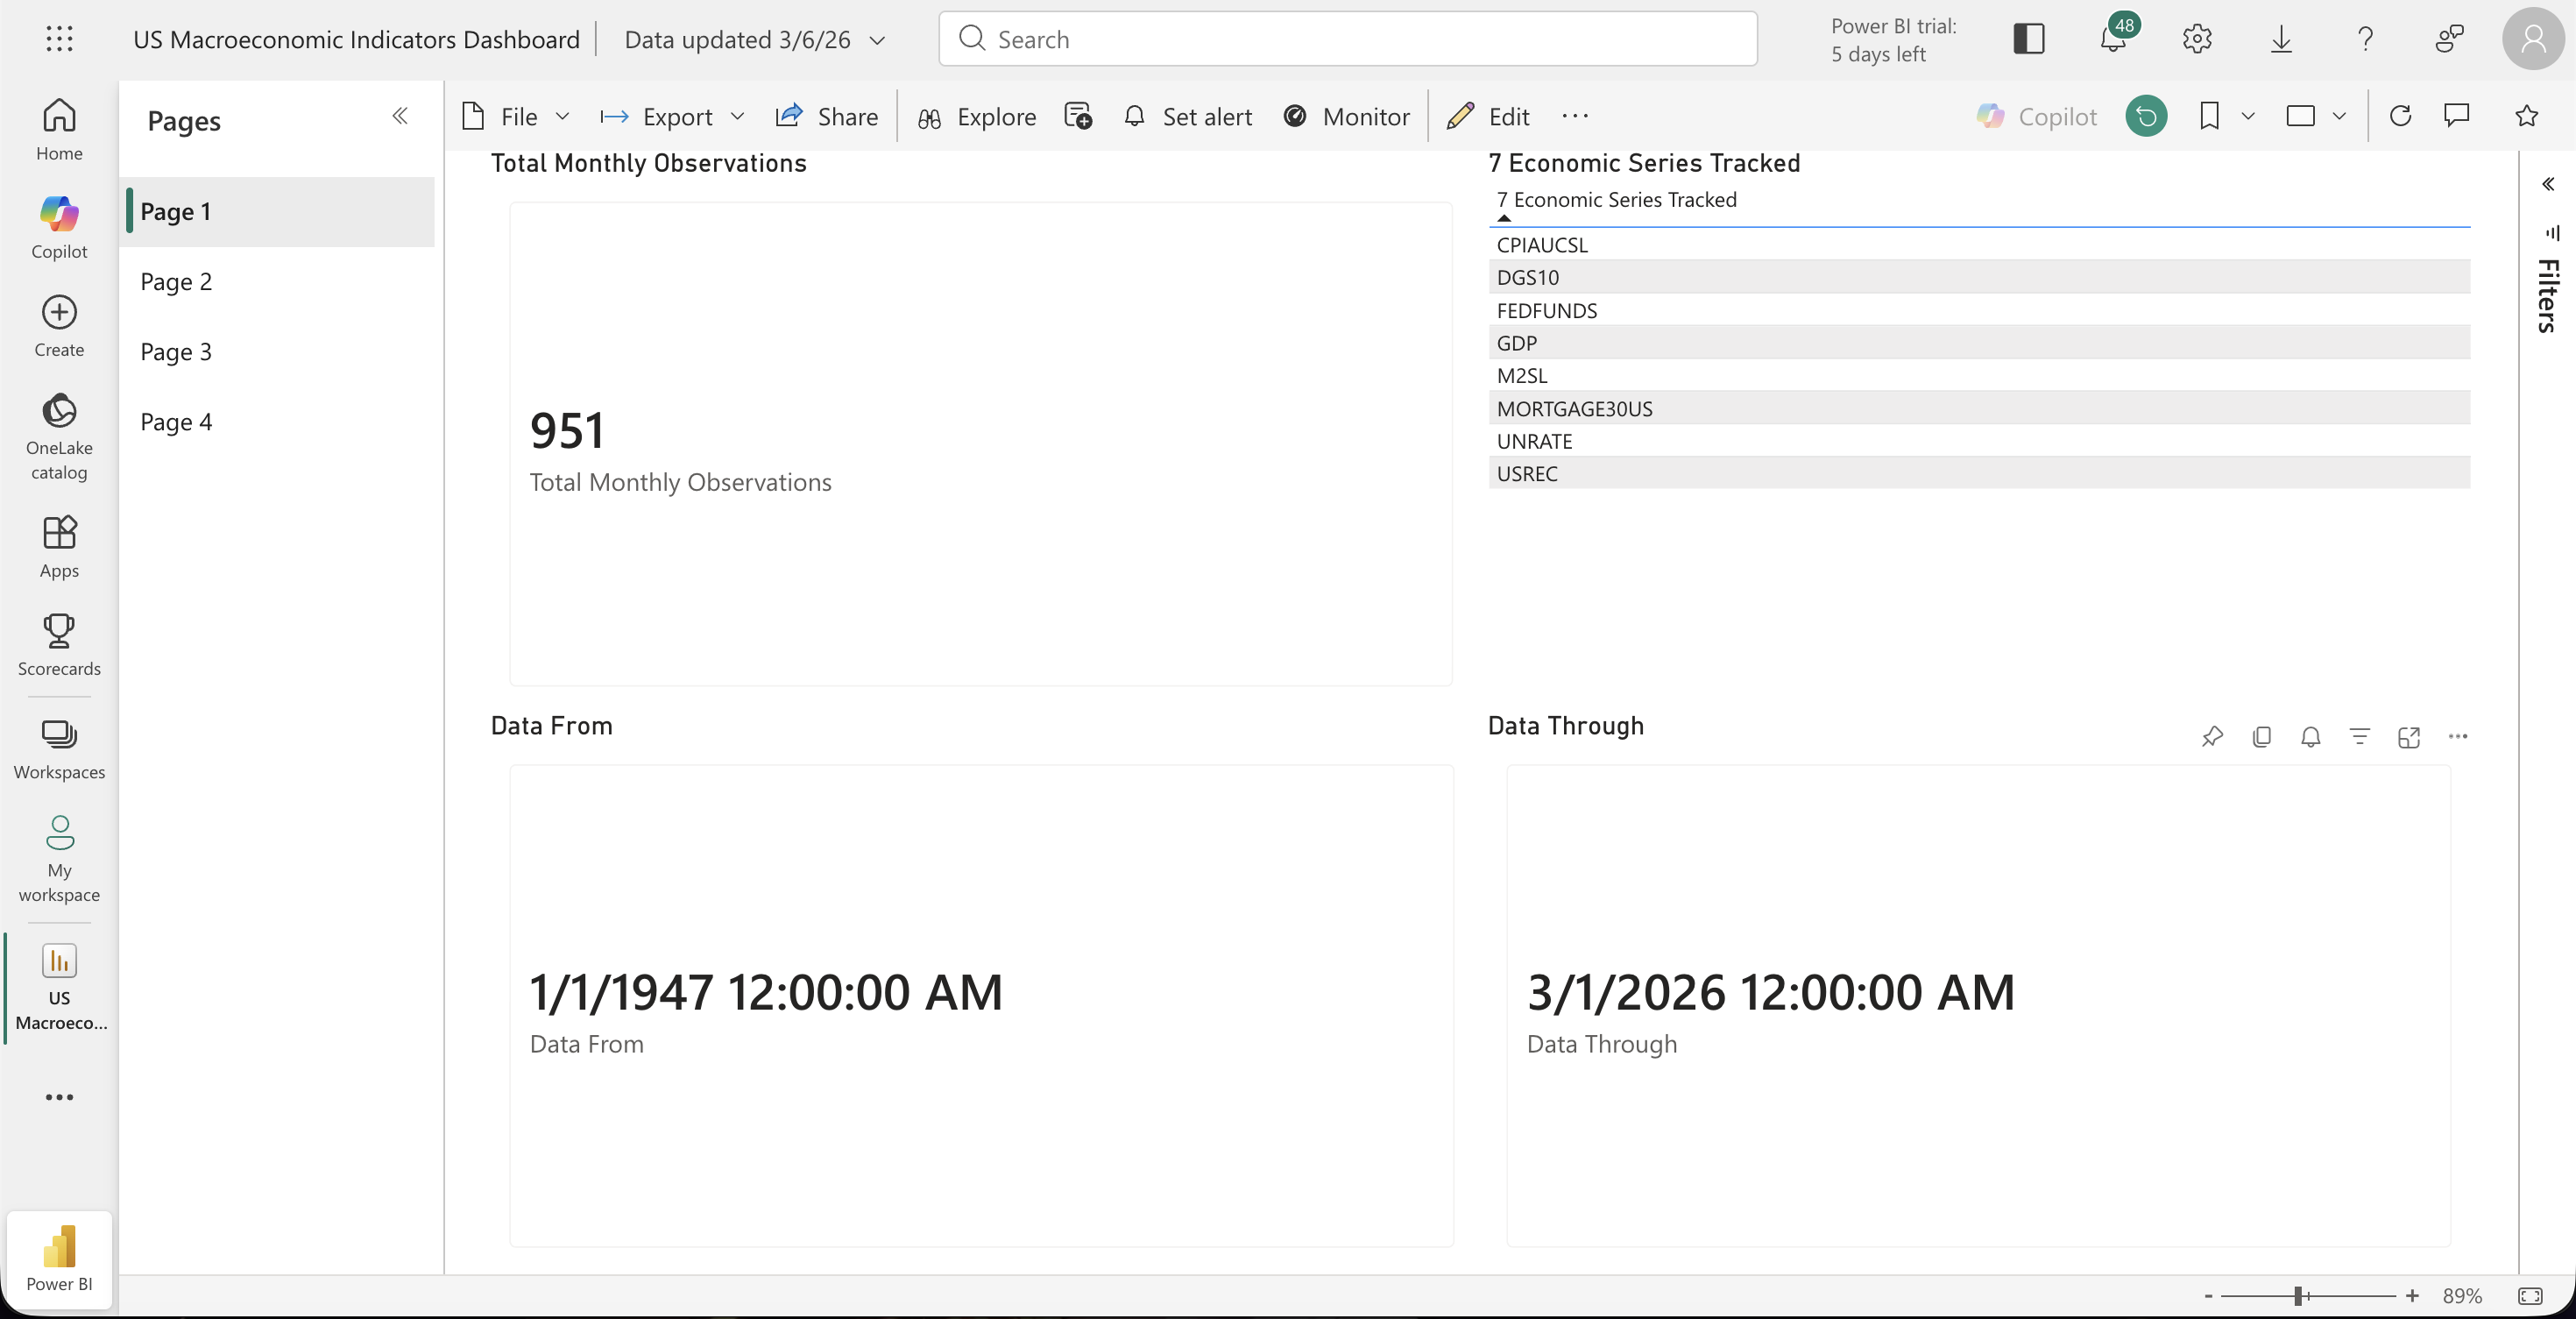

This screenshot's page, from the dashboard's own definition file:
{"tool":"powerbi","page":{"name":"Page 1","canvas":[1280,720],"ordinal":0},"visuals":[{"type":"cardVisual","title":"Total Monthly Observations","fields":{"Data":["Count(wide_macro_indicators.obs_date)"]},"box":[0,0,639.2,360.6],"z":0},{"type":"cardVisual","title":"Data Through","fields":{"Data":["Max(wide_macro_indicators.obs_date)"]},"box":[639.2,360,640.8,360],"z":1000},{"type":"cardVisual","title":"Data From","fields":{"Data":["Min(wide_macro_indicators.obs_date)"]},"box":[0,360,640.8,360],"z":2000},{"type":"tableEx","title":"7 Economic Series Tracked","fields":{"Values":["indicators.series_id"]},"box":[639,0,641,360],"z":3000}]}

Visuals, with their boxes on the page's 1280x720 design canvas (x1, y1, x2, y2). These are canvas units, not pixel positions in the 2576x1319 screenshot, which may show the page scaled, cropped or inside an application window:
"Total Monthly Observations" cardVisual: locate(0, 0, 639, 361)
"Data Through" cardVisual: locate(639, 360, 1280, 720)
"Data From" cardVisual: locate(0, 360, 641, 720)
"7 Economic Series Tracked" tableEx: locate(639, 0, 1280, 360)
